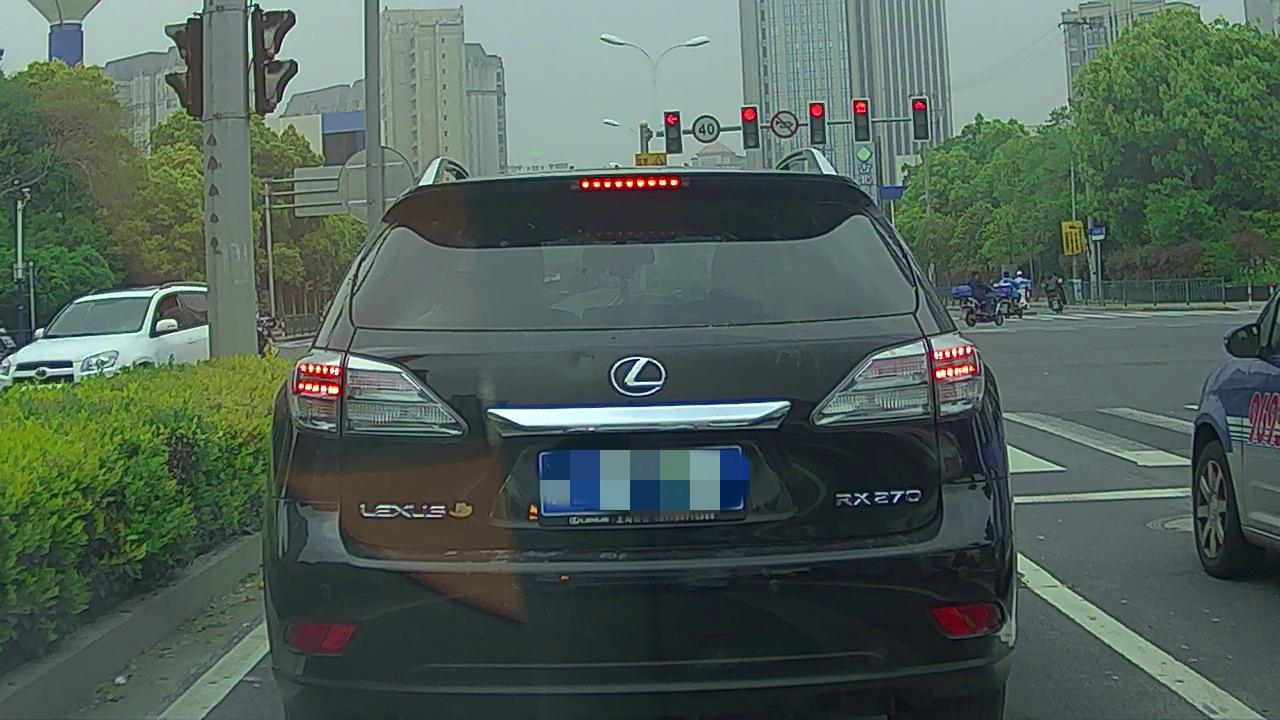traffic_light: (665, 112, 683, 151), (854, 99, 870, 142), (809, 103, 825, 145), (913, 97, 928, 141), (744, 108, 760, 147)
